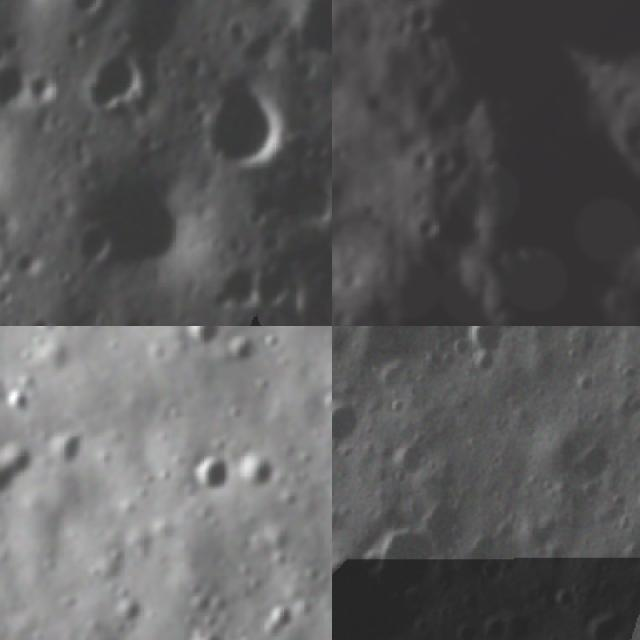crater: (69, 171, 195, 273), (195, 75, 290, 171), (332, 552, 429, 640), (343, 326, 447, 381), (371, 523, 443, 594), (82, 44, 146, 116), (207, 250, 265, 320), (283, 0, 332, 72), (0, 429, 44, 502), (452, 326, 518, 372), (249, 259, 298, 319), (332, 387, 372, 453), (416, 137, 466, 186), (39, 421, 85, 474), (460, 535, 506, 588), (577, 603, 640, 640), (232, 443, 279, 492), (186, 451, 232, 496), (220, 330, 258, 370), (25, 67, 62, 108), (262, 596, 298, 636), (0, 384, 34, 421), (475, 606, 512, 640), (13, 245, 45, 284), (179, 326, 224, 353), (406, 209, 439, 242), (442, 615, 484, 640), (183, 625, 226, 640), (332, 60, 345, 105)
